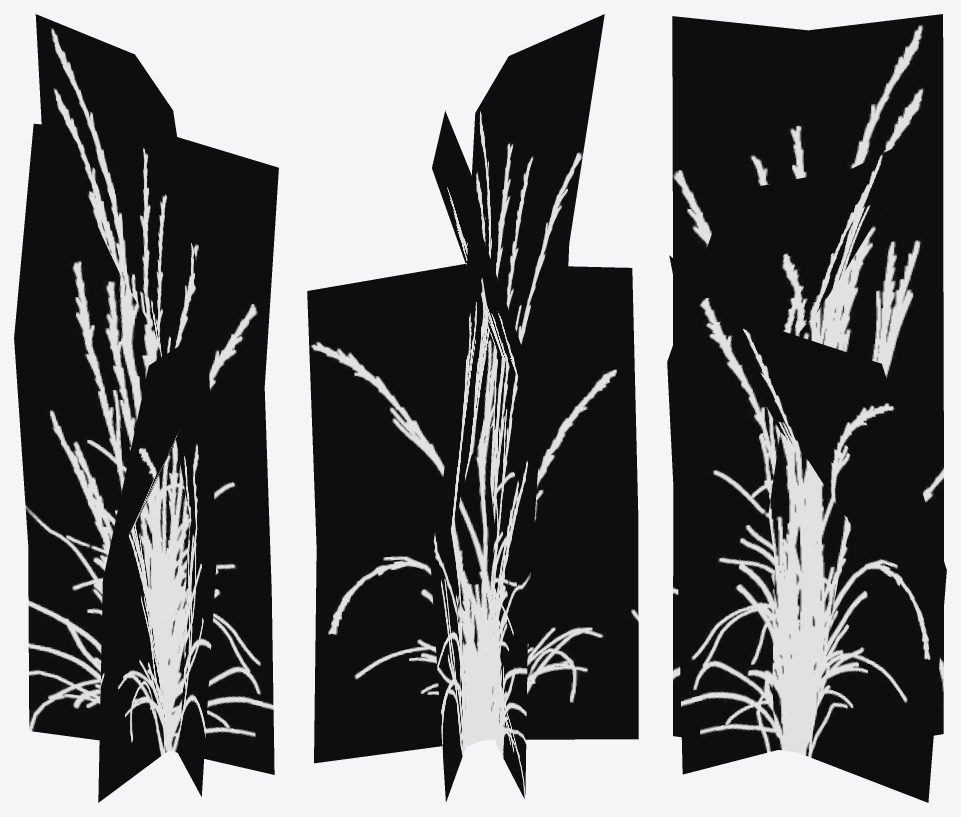
The model's file is Wheat3.fbx.
3 renders of one model, left to right at view 1: azimuth 30°, elevation 25°; view 2: azimuth 150°, elevation 25°; view 3: azimuth 270°, elevation 25°, orthographic.
Parts seen in each view (by area): view 1: Wheat3; view 2: Wheat3; view 3: Wheat3.
Part boxes in pixels (<box>): Wheat3: <box>14,14,278,802</box>; Wheat3: <box>307,14,638,801</box>; Wheat3: <box>667,14,946,802</box>.
Bounding box in the file's own units: 60.16 × 161 × 57.87.
1 material, 1 textured.
